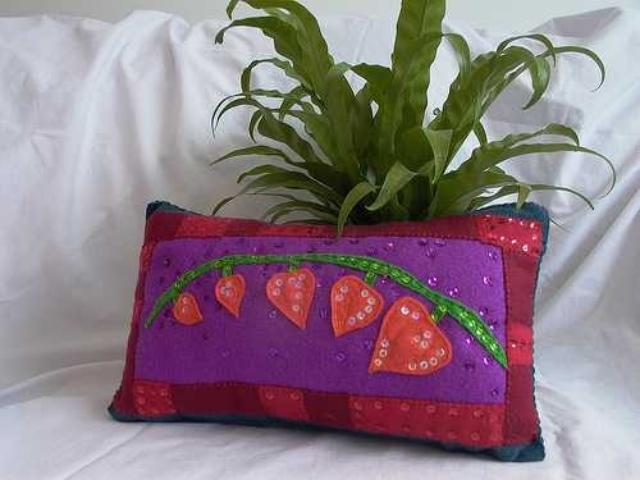pillow: (107, 198, 549, 462)
